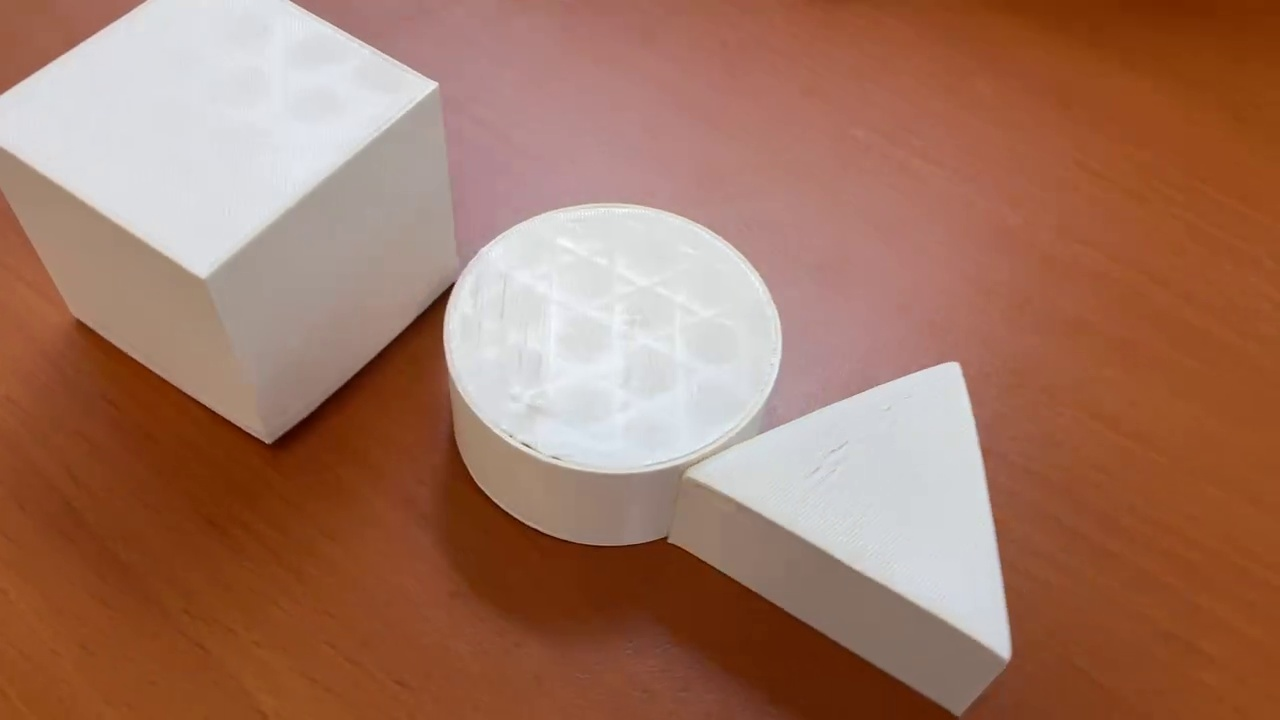Cube: (1, 1, 466, 449)
Cylinder_short: (442, 200, 780, 542)
Triangle_short: (660, 358, 1014, 719)
